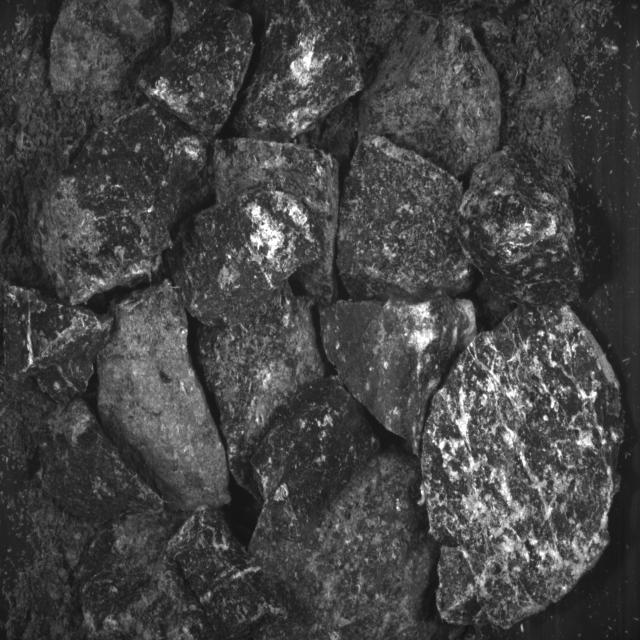Stones: (422, 306, 625, 629), (250, 379, 439, 640), (44, 104, 214, 305), (99, 283, 231, 512), (199, 283, 325, 495), (321, 298, 476, 455), (360, 14, 502, 178), (339, 137, 474, 302), (215, 139, 340, 305), (171, 189, 322, 325), (460, 148, 584, 305), (235, 1, 364, 142), (169, 509, 287, 639), (41, 400, 164, 523), (140, 10, 255, 139), (5, 287, 112, 404), (51, 1, 171, 94), (169, 507, 251, 597)
